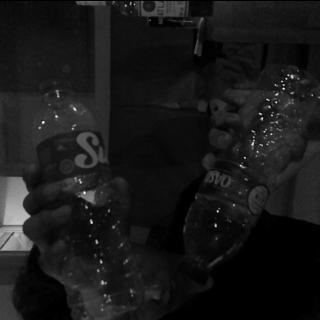plastic_bottles: (172, 62, 316, 276), (33, 80, 161, 320)
